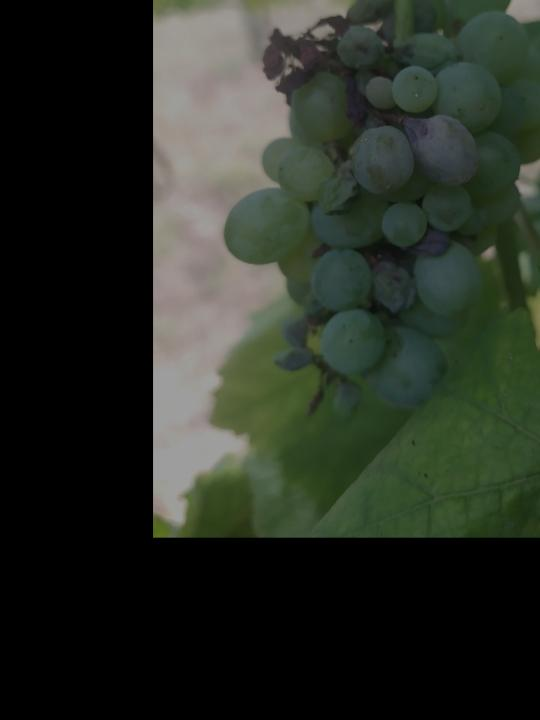grape: (219, 0, 540, 422)
